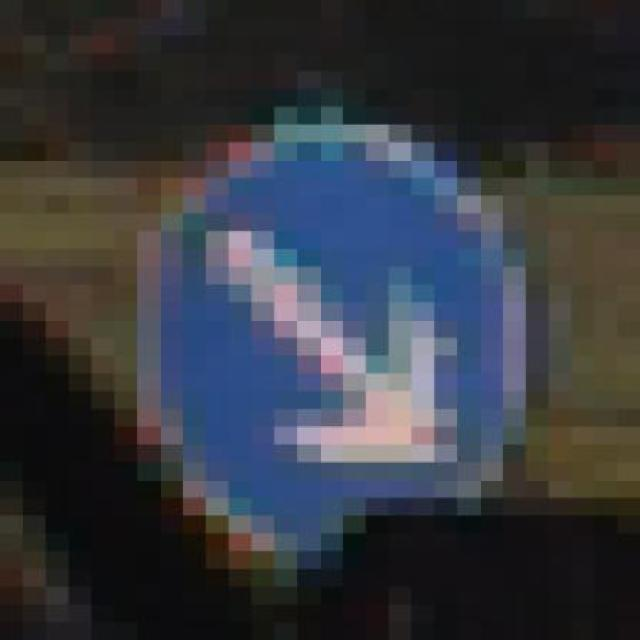Keep-Right: (91, 71, 548, 569)
